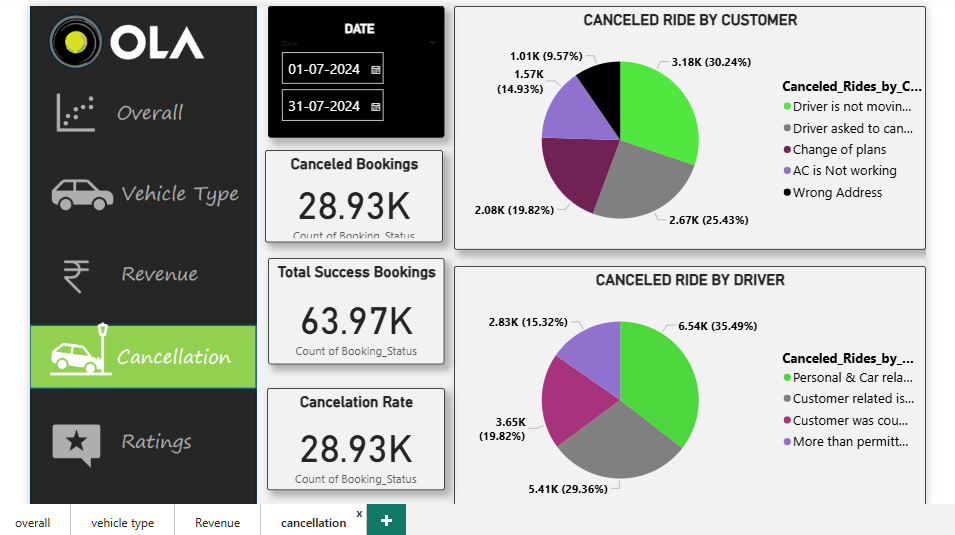

The page's visual inventory and layout, read from the dashboard file:
{"tool":"powerbi","page":{"name":"cancellation","canvas":[1280,720],"ordinal":3},"visuals":[{"type":"actionButton","box":[0,575.4,323.1,95],"z":0},{"type":"actionButton","box":[0,338.7,323.1,95],"z":1000},{"type":"actionButton","box":[0,223.9,323.1,95],"z":2000},{"type":"actionButton","box":[0,107.7,323.1,95],"z":3000},{"type":"pieChart","title":"CANCELED RIDE BY CUSTOMER","fields":{"Category":["OLA PROJECT DATASET CLEAN.Canceled_Rides_by_Customer"],"Y":["CountNonNull(OLA PROJECT DATASET CLEAN.Canceled_Rides_by_Customer)"]},"box":[606,0,674,348],"z":4000},{"type":"pieChart","title":"CANCELED RIDE BY DRIVER","fields":{"Category":["OLA PROJECT DATASET CLEAN.Canceled_Rides_by_Driver"],"Y":["CountNonNull(OLA PROJECT DATASET CLEAN.Canceled_Rides_by_Driver)"]},"box":[606,372,674,348],"z":5000},{"type":"slicer","title":"DATE","fields":{"Values":["OLA PROJECT DATASET CLEAN.Date"]},"box":[340,0,252,188],"z":6000},{"type":"card","title":"Canceled Bookings","fields":{"Values":["CountNonNull(OLA PROJECT DATASET CLEAN.Booking_Status)"]},"box":[336,206,254,132],"z":7000},{"type":"card","title":"Total Success Bookings","fields":{"Values":["CountNonNull(OLA PROJECT DATASET CLEAN.Booking_Status)"]},"box":[340,360,252,152],"z":8000},{"type":"card","title":"Cancelation Rate","fields":{"Values":["CountNonNull(OLA PROJECT DATASET CLEAN.Booking_Status)"]},"box":[338,546,254,146],"z":9000}]}

Visuals, with their boxes on the page's 1280x720 design canvas (x1, y1, x2, y2). These are canvas units, not pixel positions in the 955x535 screenshot, which may show the page scaled, cropped or inside an application window:
actionButton: <bbox>0, 575, 323, 670</bbox>
actionButton: <bbox>0, 339, 323, 434</bbox>
actionButton: <bbox>0, 224, 323, 319</bbox>
actionButton: <bbox>0, 108, 323, 203</bbox>
"CANCELED RIDE BY CUSTOMER" pieChart: <bbox>606, 0, 1280, 348</bbox>
"CANCELED RIDE BY DRIVER" pieChart: <bbox>606, 372, 1280, 720</bbox>
"DATE" slicer: <bbox>340, 0, 592, 188</bbox>
"Canceled Bookings" card: <bbox>336, 206, 590, 338</bbox>
"Total Success Bookings" card: <bbox>340, 360, 592, 512</bbox>
"Cancelation Rate" card: <bbox>338, 546, 592, 692</bbox>
